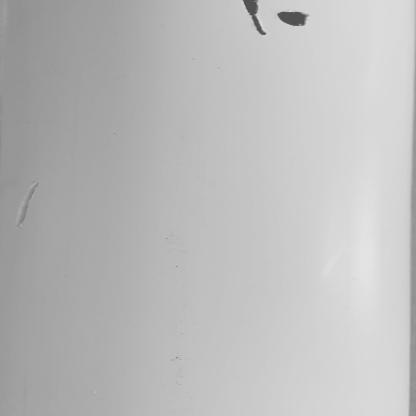kongdong: (242, 1, 268, 37), (275, 10, 312, 29)
sunshang: (15, 180, 44, 227)
